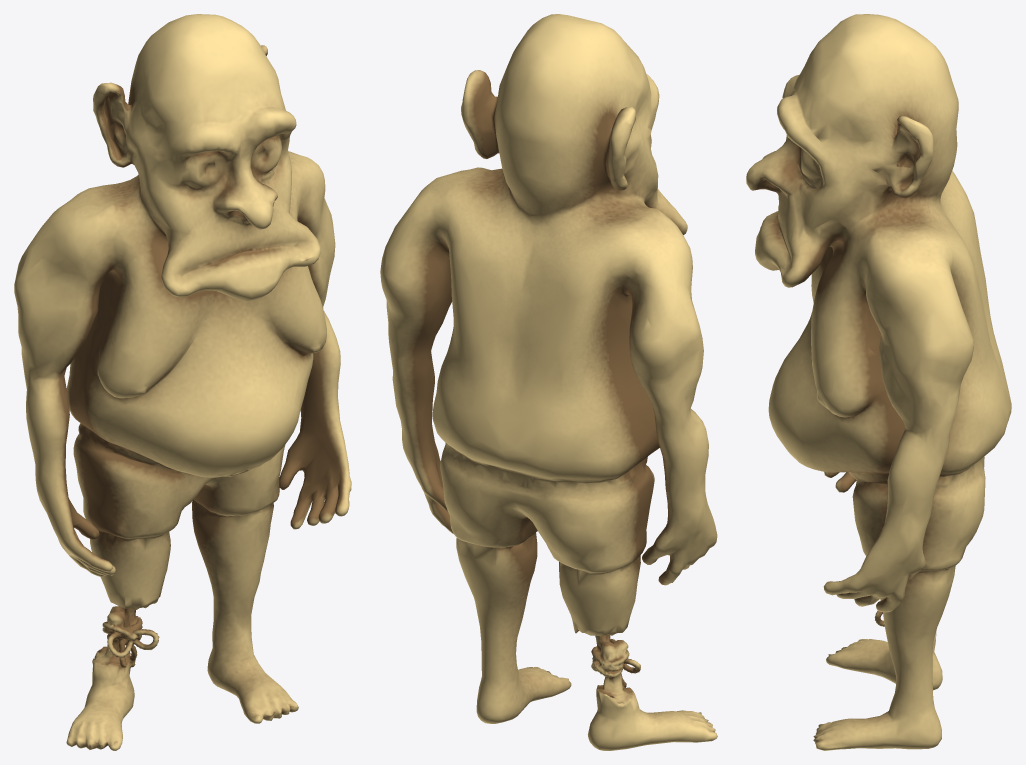
File: Knogle mand14_Hel.fbx
3 renders of one model, left to right at view 1: azimuth 30°, elevation 25°; view 2: azimuth 150°, elevation 25°; view 3: azimuth 270°, elevation 25°, orthographic.
Parts seen in each view (by area): view 1: Anton.001; view 2: Anton.001; view 3: Anton.001.
Part boxes in pixels (x1=…): Anton.001: x1=14, y1=14, x2=351, y2=750; Anton.001: x1=380, y1=14, x2=717, y2=750; Anton.001: x1=746, y1=14, x2=1011, y2=750.
Bounding box in the file's own units: 438 × 926 × 318.
